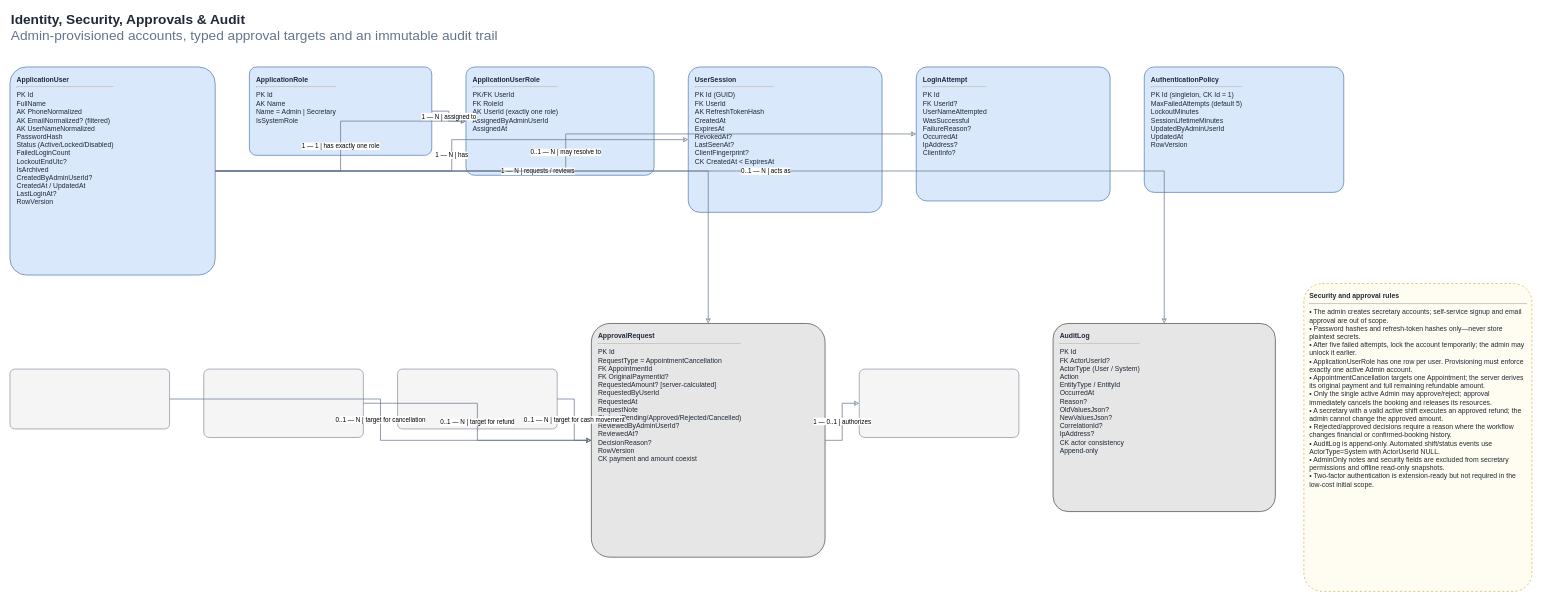
Some shapes in this 1542 by 601 pixel diagram are drawn without their labels. The box of each missing label's shape, as (x1, y1, x2, y2) in pixels:
Appointment external reference PK Id See page 02: (9, 368, 170, 429)
Payment external reference PK Id AK (Id, PatientId) See page 04: (203, 368, 364, 438)
Refund external reference PK Id FK ApprovalRequestId See page 04: (859, 368, 1019, 438)
Shift external reference PK Id See page 04: (397, 368, 557, 429)
